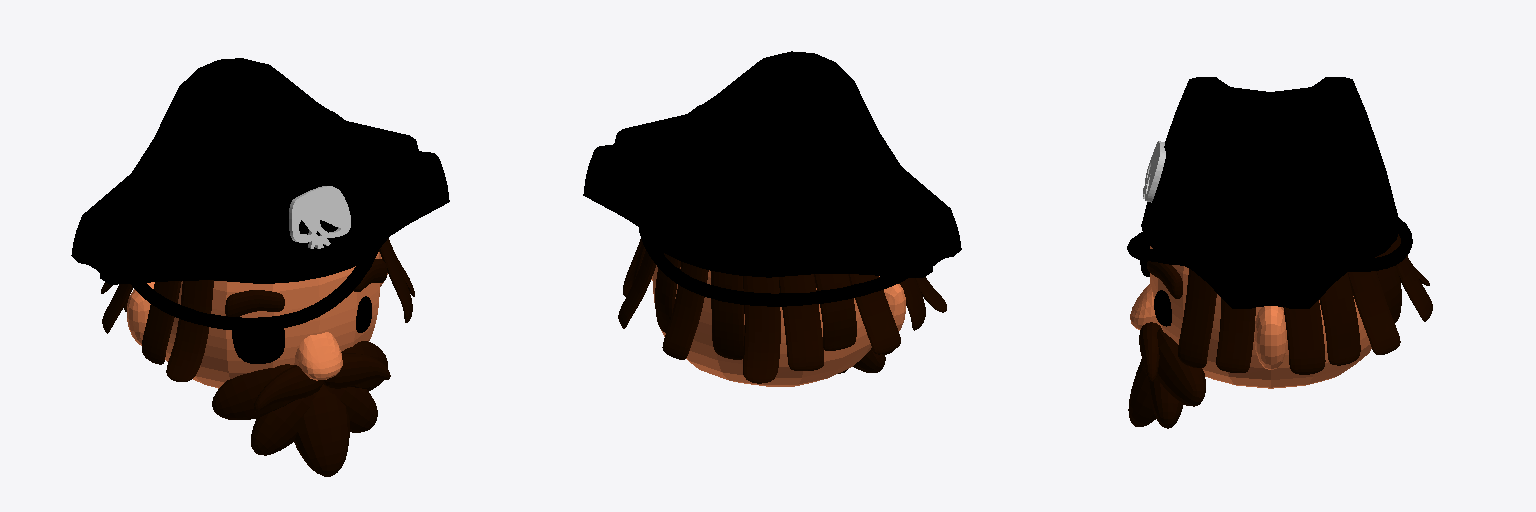
The model's file is Pirate_Head1.obj.
3 renders of one model, left to right at view 1: azimuth 30°, elevation 25°; view 2: azimuth 150°, elevation 25°; view 3: azimuth 270°, elevation 25°, orthographic.
Visible parts, largest first — view 1: Pirate_Head1; view 2: Pirate_Head1; view 3: Pirate_Head1.
Part boxes in pixels (bbox=[...]): Pirate_Head1: bbox=[71, 58, 449, 476]; Pirate_Head1: bbox=[583, 51, 961, 386]; Pirate_Head1: bbox=[1127, 77, 1432, 428].
Bounding box in the file's own units: 2.35 × 2.22 × 1.82.